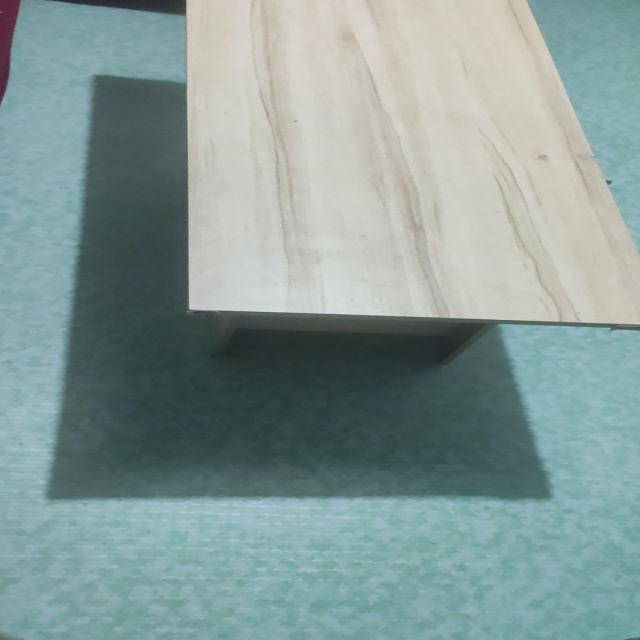table: (184, 0, 640, 365)
